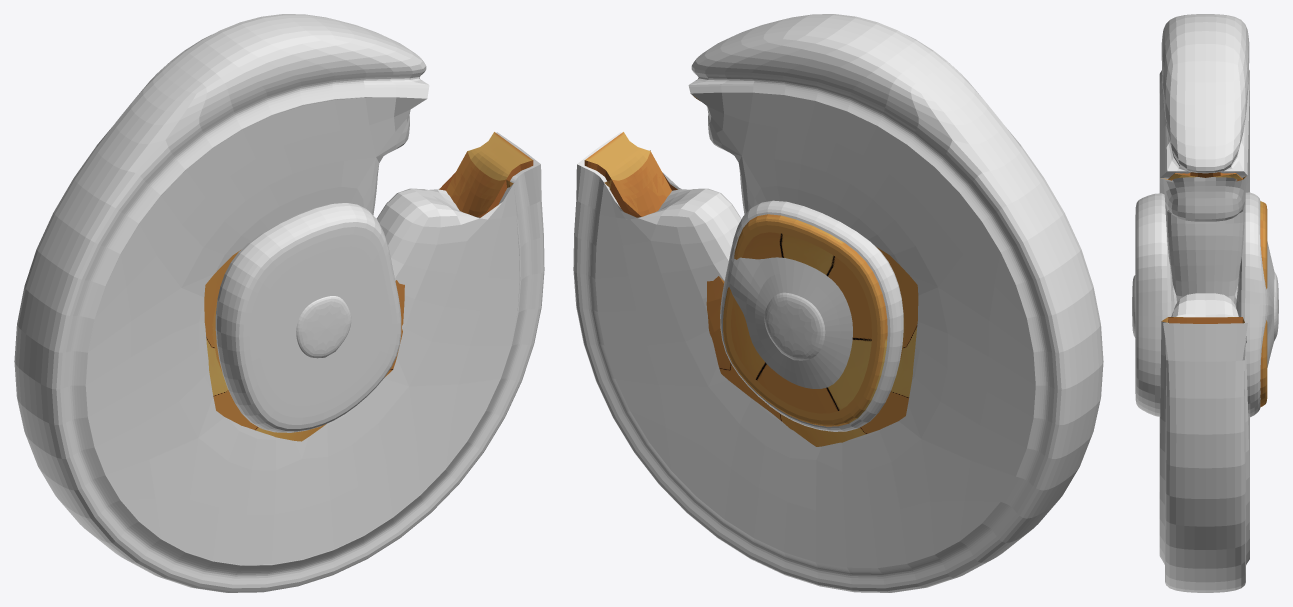
Rendered from coin1.fbx.
The picture shows the model from 3 angles, left to right: view 1: azimuth 30°, elevation 25°; view 2: azimuth 150°, elevation 25°; view 3: azimuth 270°, elevation 25°; orthographic projection. The views are drawn at different scales.
Visible parts, largest first — view 1: Cylinder; view 2: Cylinder; view 3: Cylinder.
Part boxes in pixels (box(x1,y1,x2,y2)): Cylinder: box(14, 14, 544, 592); Cylinder: box(573, 14, 1103, 592); Cylinder: box(1132, 14, 1278, 592).
Size of the model in its own units: 374 by 395 by 98.74.
